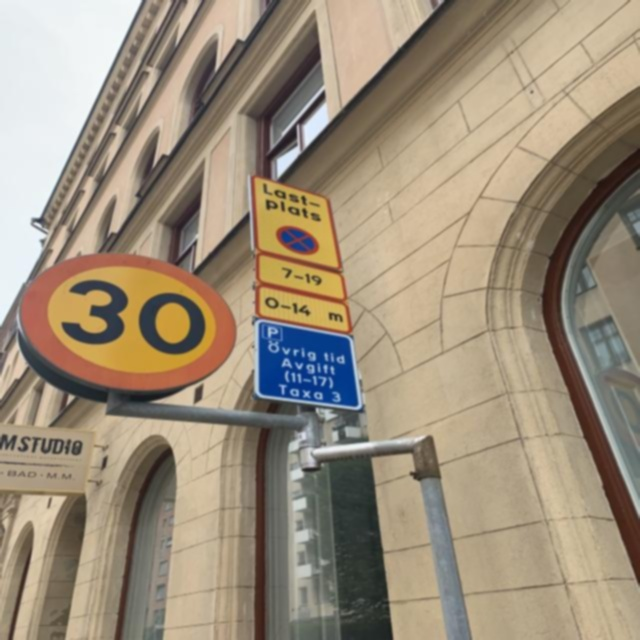lastplats: (249, 172, 346, 271)
